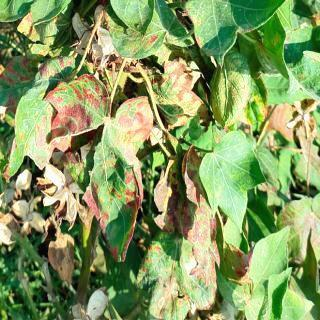blight: (40, 77, 171, 273)
